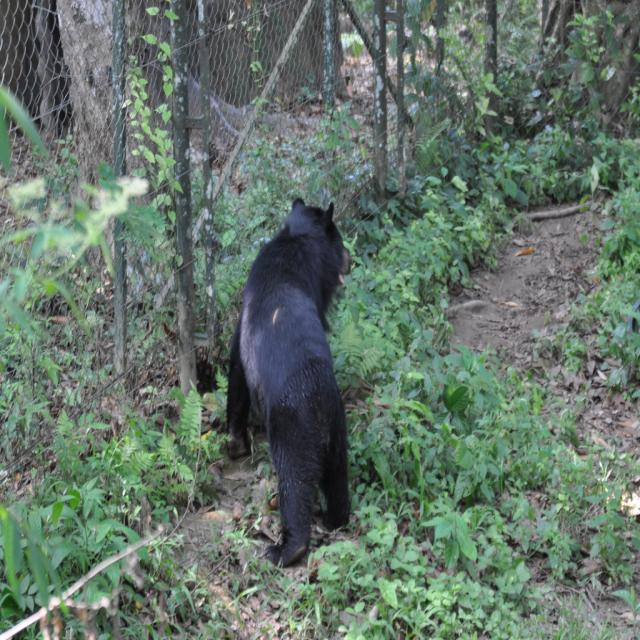Buffalo: (223, 196, 354, 570)
